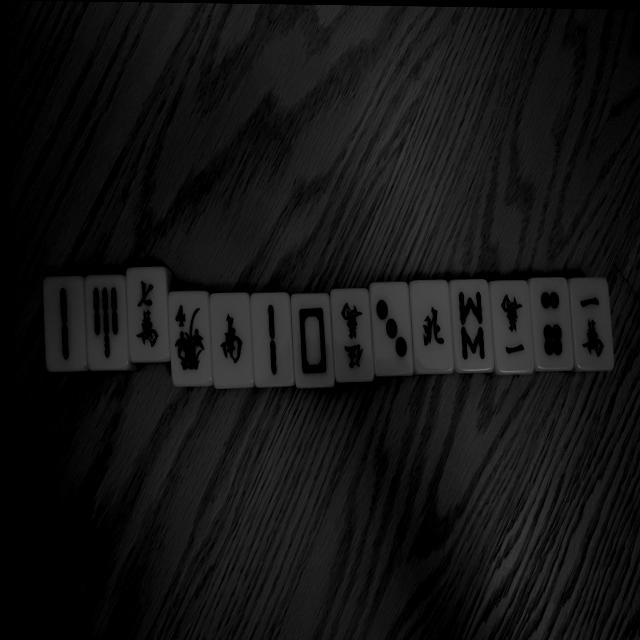bai: (292, 294, 336, 385)
f4: (169, 291, 213, 385)
m1: (489, 281, 535, 373), (568, 280, 612, 372)
m5: (331, 289, 375, 382)
m7: (126, 269, 172, 364)
north: (411, 284, 454, 375)
s2: (42, 278, 88, 373), (250, 295, 294, 388)
s7: (85, 276, 131, 372)
s8: (451, 281, 494, 373)
south: (209, 294, 254, 388)
t3: (369, 285, 412, 377)
t6: (528, 278, 573, 370)
